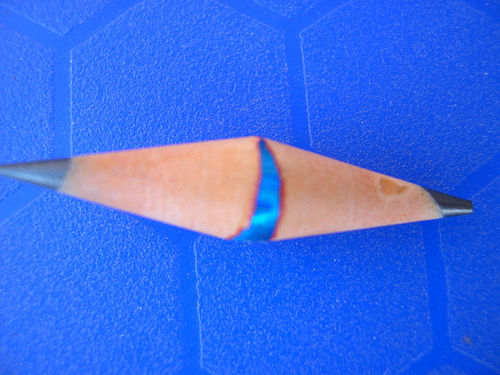pen_tip: (2, 117, 271, 323), (263, 116, 499, 286)
